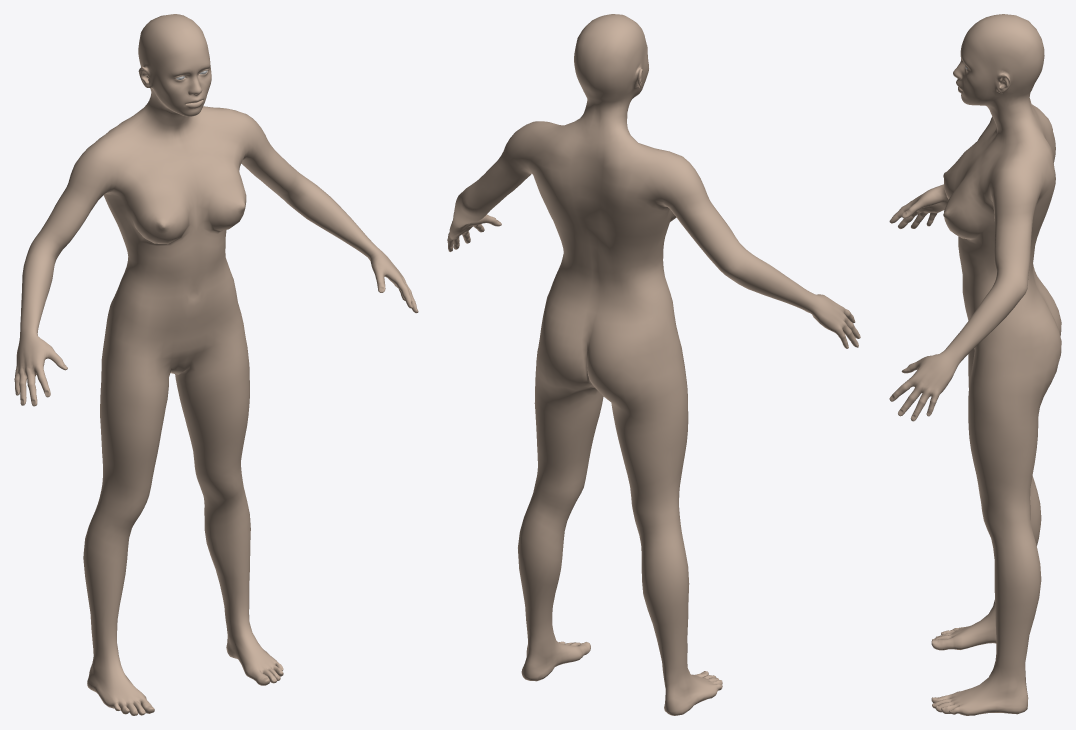
The model's file is female01.dae.
3 renders of one model, left to right at view 1: azimuth 30°, elevation 25°; view 2: azimuth 150°, elevation 25°; view 3: azimuth 270°, elevation 25°, orthographic. The views are drawn at different scales.
Parts seen in each view (by area): view 1: female01-base; view 2: female01-base; view 3: female01-base.
Part boxes in pixels (x1,y1,x2,y2): female01-base: [14, 14, 418, 715]; female01-base: [447, 14, 860, 715]; female01-base: [889, 14, 1061, 715].
Bounding box in the file's own units: 1 × 0.3766 × 1.6.
